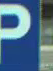Parking: (0, 0, 35, 70)
